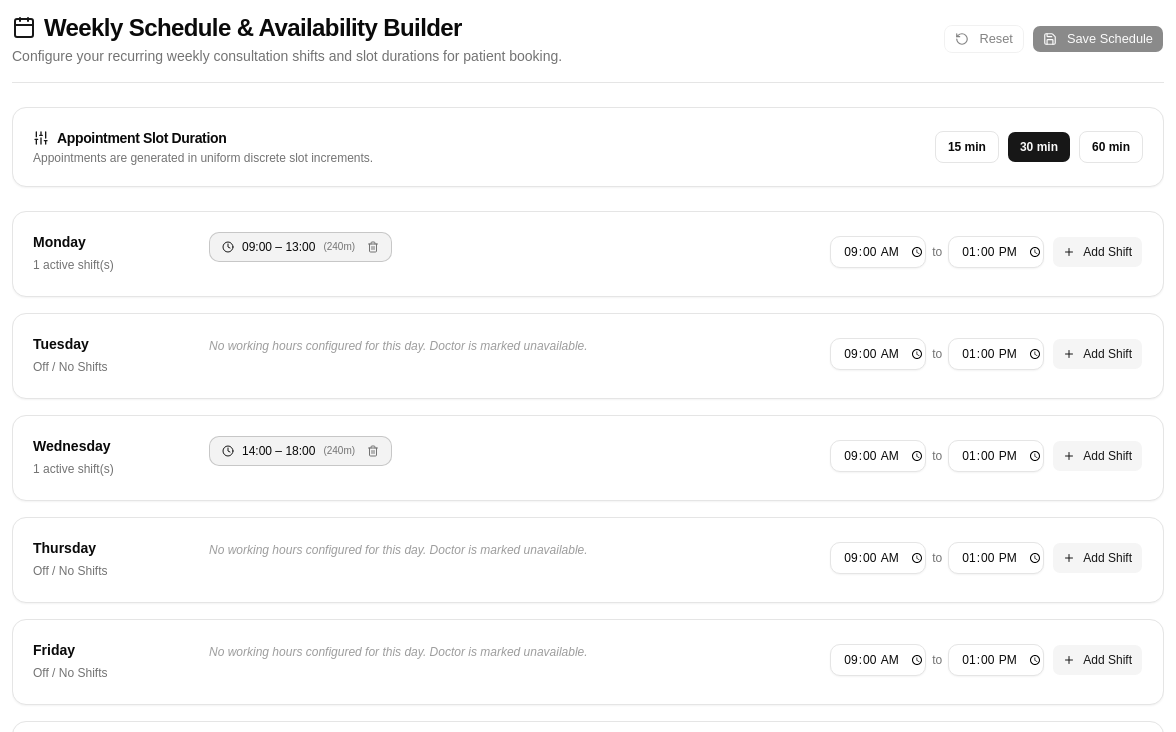
Test: Milestone 13 — Task 13.4: Doctor Portal Views › Weekly Availability Settings (AvailabilitySettingsPage) › 7. rejects overlapping shifts on the same day
Expected: the element with test id "shift-chip-monday-0" is shown, [209,232,392,262]
Replace the text in the time field with test id "shift-start-monday" with "11:00": (878, 252) [830,236,926,268]
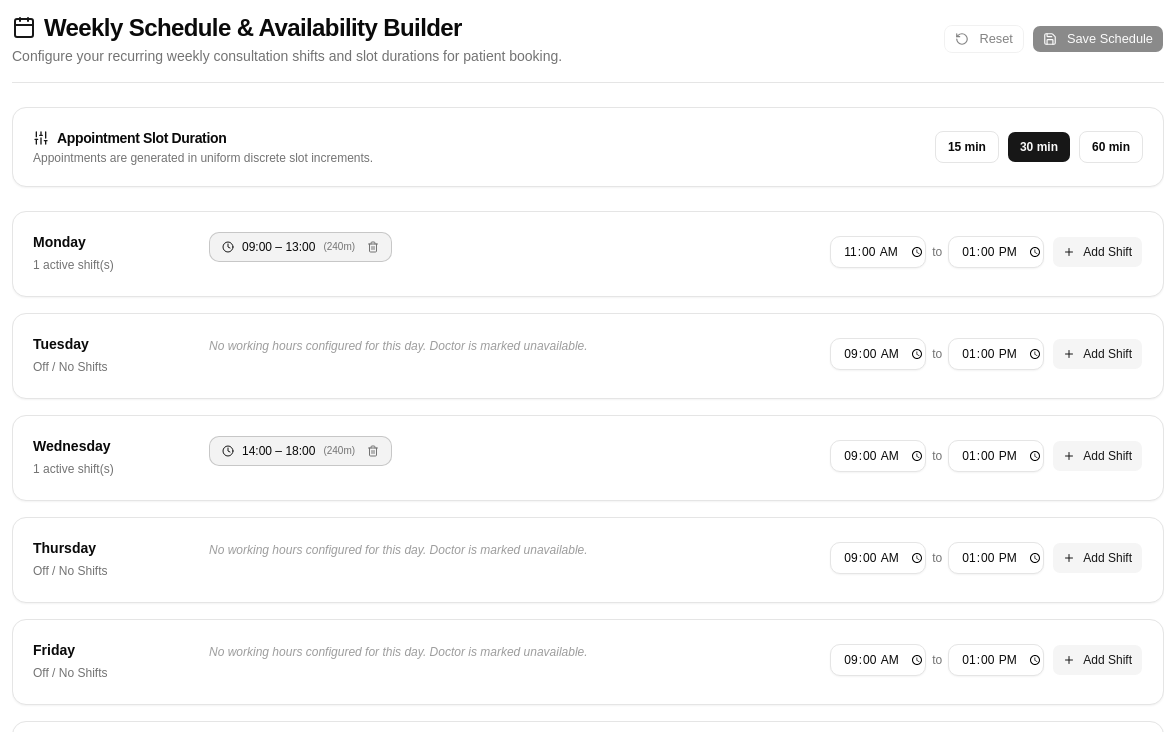
Replace the text in the time field with test id "shift-end-monday" with "15:00": (996, 252) [948,236,1044,268]
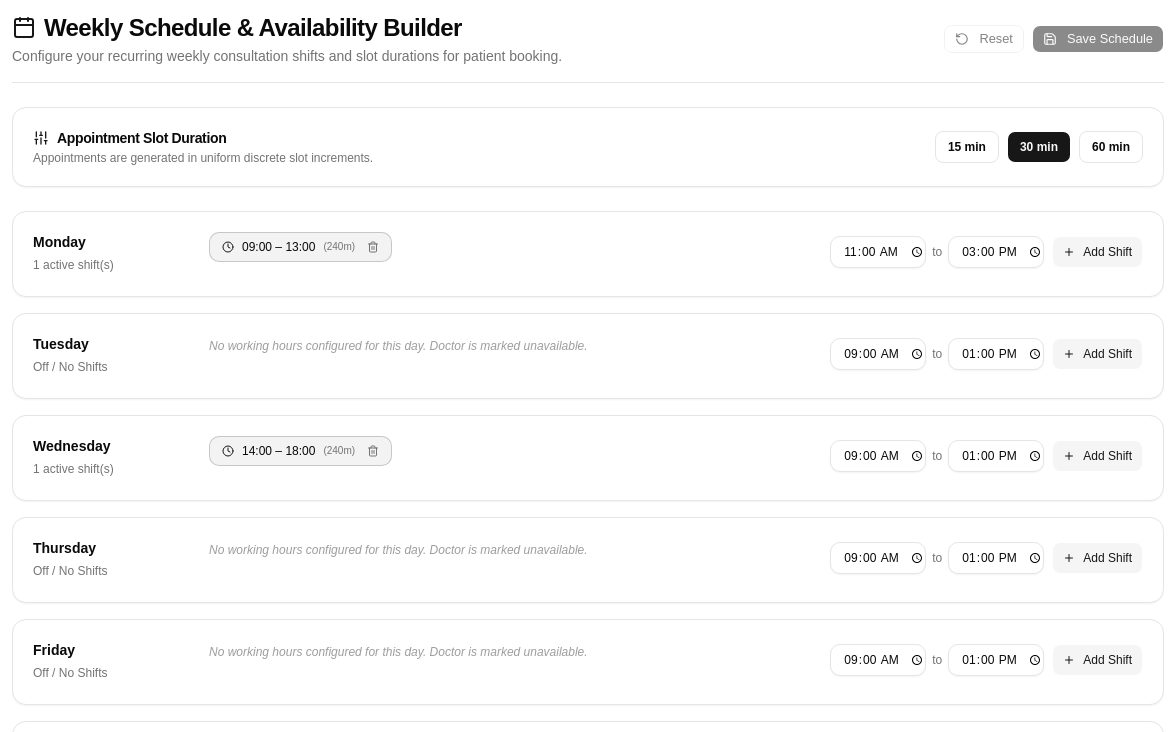
Click the button with test id "add-shift-btn-monday": (1098, 252) [1052,236,1143,268]
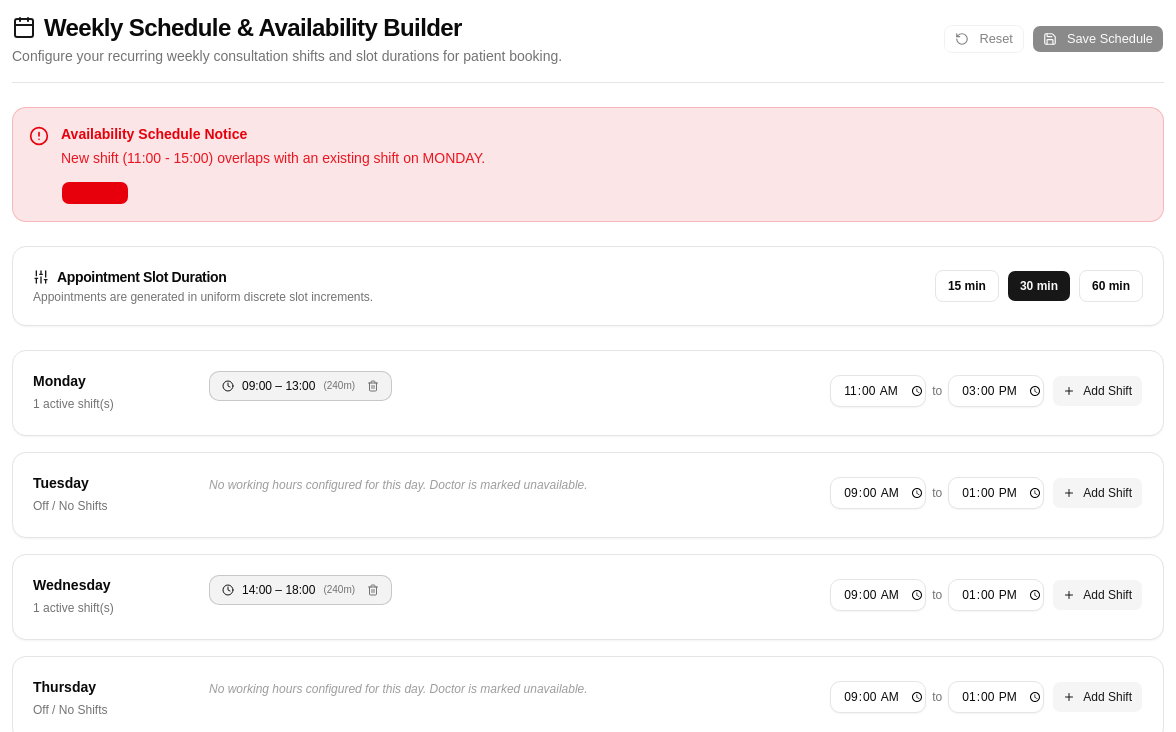
Expected: the message with test id "availability-error-alert" is shown, [12,107,1164,222]
Expected: the text "overlaps with an existing shift" is shown, [61,150,485,166]
